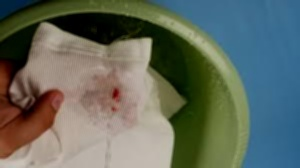blood: (109, 88, 120, 112)
